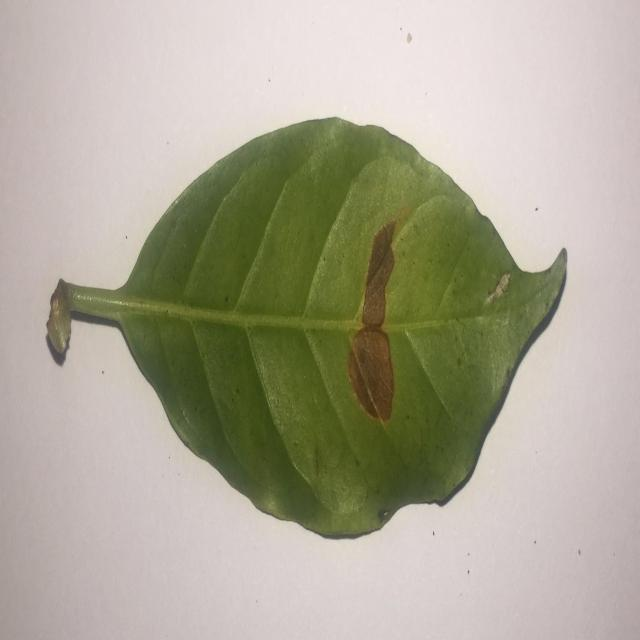Plaga-Minador: (44, 118, 568, 542)
